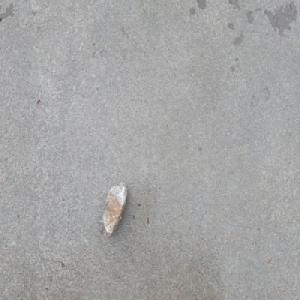Rock: (101, 180, 129, 236)
